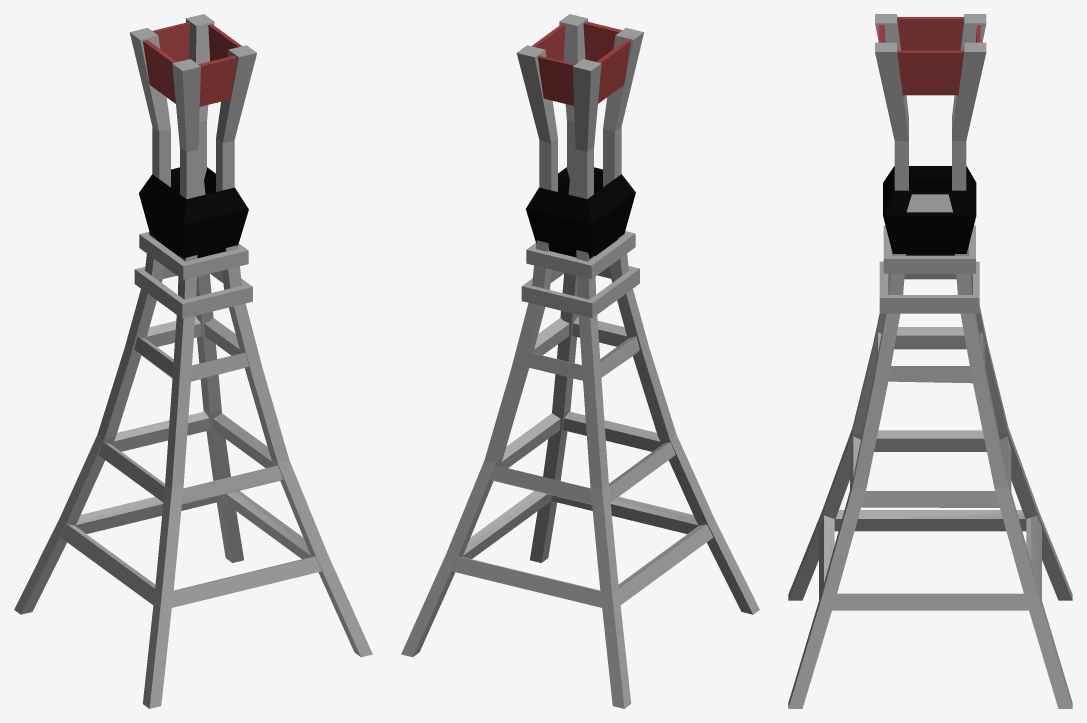
Rendered from Tower.fbx.
3 renders of one model, left to right at view 1: azimuth 30°, elevation 25°; view 2: azimuth 150°, elevation 25°; view 3: azimuth 270°, elevation 25°, orthographic. The views are drawn at different scales.
Parts seen in each view (by area): view 1: pasted__pCube1, pasted__pasted__pCube2 (×2), pasted__pasted__pasted__pCube2, pasted__pCube3, pasted__pasted__pasted__pasted__pCube2, pCube1, pasted__pCube2; view 2: pasted__pCube1, pasted__pasted__pCube2 (×2), pasted__pasted__pasted__pCube2, pasted__pCube3, pasted__pasted__pasted__pasted__pCube2, pCube1, pasted__pCube2; view 3: pasted__pCube1, pasted__pasted__pCube2 (×2), pasted__pasted__pasted__pCube2, pasted__pCube3, pasted__pasted__pasted__pasted__pCube2, pCube1, pasted__pCube2.
Part boxes in pixels (x1,y1,x2,y2): pasted__pCube1: [14, 14, 372, 708]; pasted__pasted__pCube2 (×2): [60, 167, 321, 607]; pasted__pasted__pasted__pCube2: [98, 411, 283, 504]; pasted__pCube3: [143, 22, 241, 106]; pasted__pasted__pasted__pasted__pCube2: [134, 316, 248, 381]; pCube1: [134, 266, 252, 318]; pasted__pCube2: [139, 232, 248, 279]; pasted__pCube1: [401, 14, 759, 708]; pasted__pasted__pCube2 (×2): [452, 167, 713, 607]; pasted__pasted__pasted__pCube2: [490, 411, 675, 504]; pasted__pCube3: [531, 21, 630, 105]; pasted__pasted__pasted__pasted__pCube2: [525, 316, 639, 380]; pCube1: [521, 266, 639, 318]; pasted__pCube2: [526, 231, 635, 279]; pasted__pCube1: [788, 14, 1072, 708]; pasted__pasted__pCube2 (×2): [819, 166, 1041, 610]; pasted__pasted__pasted__pCube2: [850, 430, 1011, 507]; pasted__pCube3: [878, 17, 980, 95]; pasted__pasted__pasted__pasted__pCube2: [875, 327, 985, 383]; pCube1: [879, 261, 979, 313]; pasted__pCube2: [883, 225, 975, 273].
Bounding box in the file's own units: 19.02 × 47.97 × 19.98.
